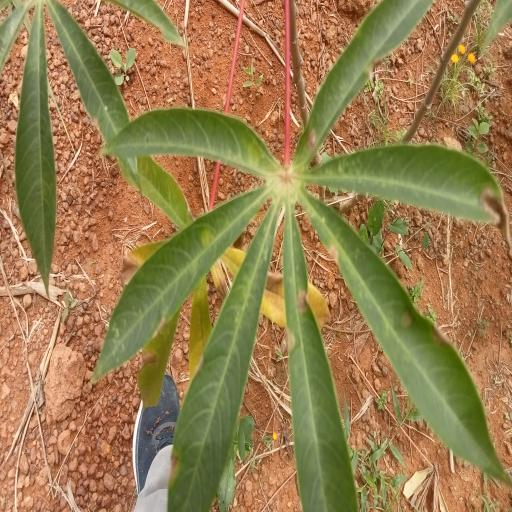Cassava_Brown_Leaf_Spot: (93, 1, 508, 512)
